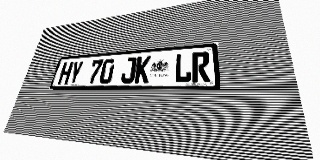0: (98, 58, 115, 84)
7: (87, 59, 103, 84)
H: (57, 62, 74, 85)
J: (120, 57, 137, 83)
K: (134, 56, 151, 83)
L: (174, 53, 192, 83)
R: (192, 51, 210, 82)
Y: (67, 61, 84, 84)
